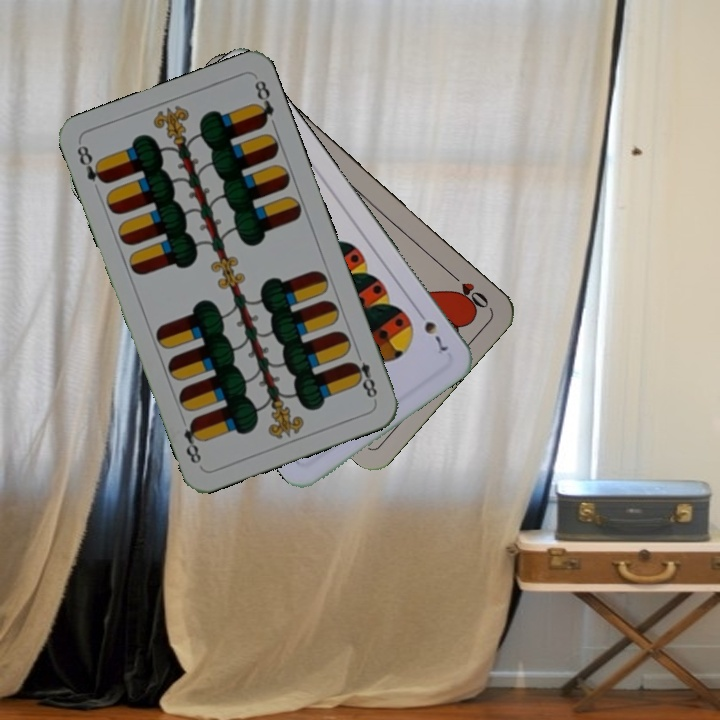E8: (346, 346, 380, 404), (73, 141, 110, 187)
HO: (443, 266, 492, 311)
S7: (412, 305, 450, 355)
